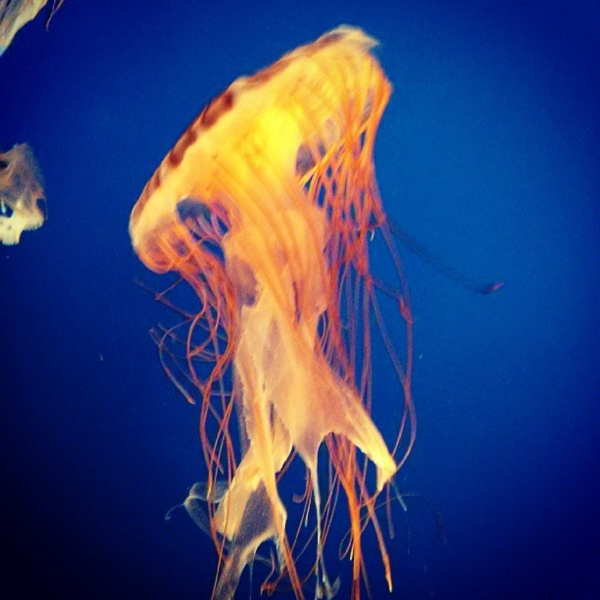Jellyfish: (123, 47, 510, 592)
